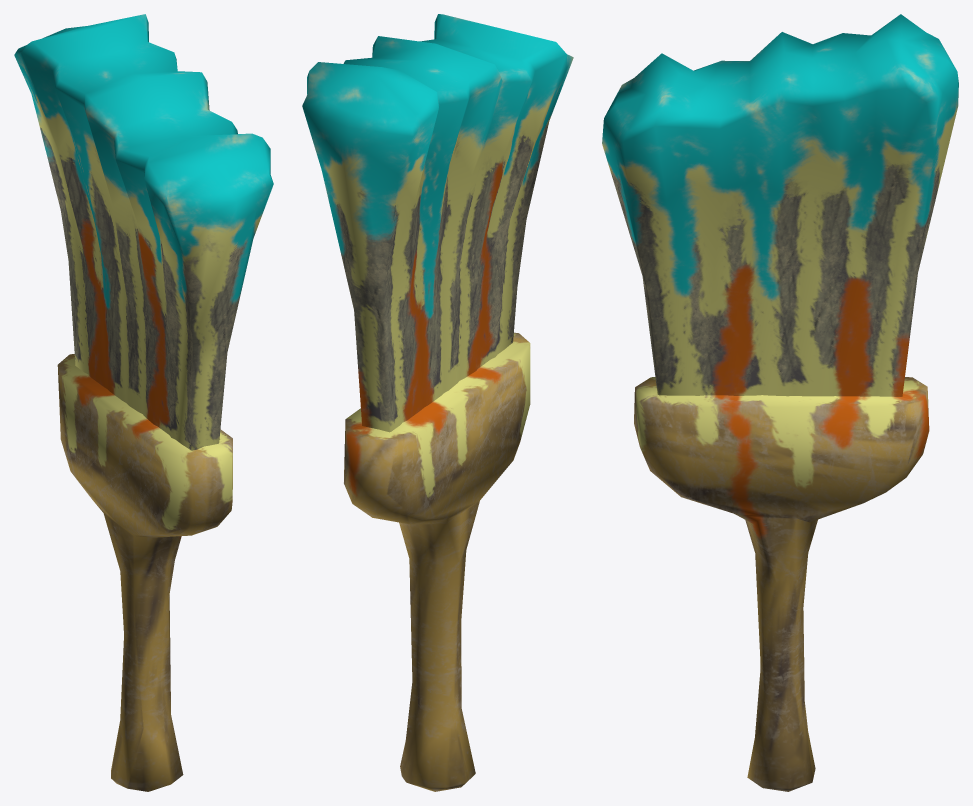
File: BrushL.fbx
The picture shows the model from 3 angles, left to right: view 1: azimuth 30°, elevation 25°; view 2: azimuth 150°, elevation 25°; view 3: azimuth 270°, elevation 25°; orthographic projection. The views are drawn at different scales.
Visible parts, largest first — view 1: BrushL; view 2: BrushL; view 3: BrushL.
Part boxes in pixels (left/top/right/bottom): BrushL: left=14, top=14, right=273, bottom=791; BrushL: left=302, top=14, right=573, bottom=791; BrushL: left=602, top=14, right=958, bottom=791.
Size of the model in its own units: 6.09 by 32.95 by 14.37.
